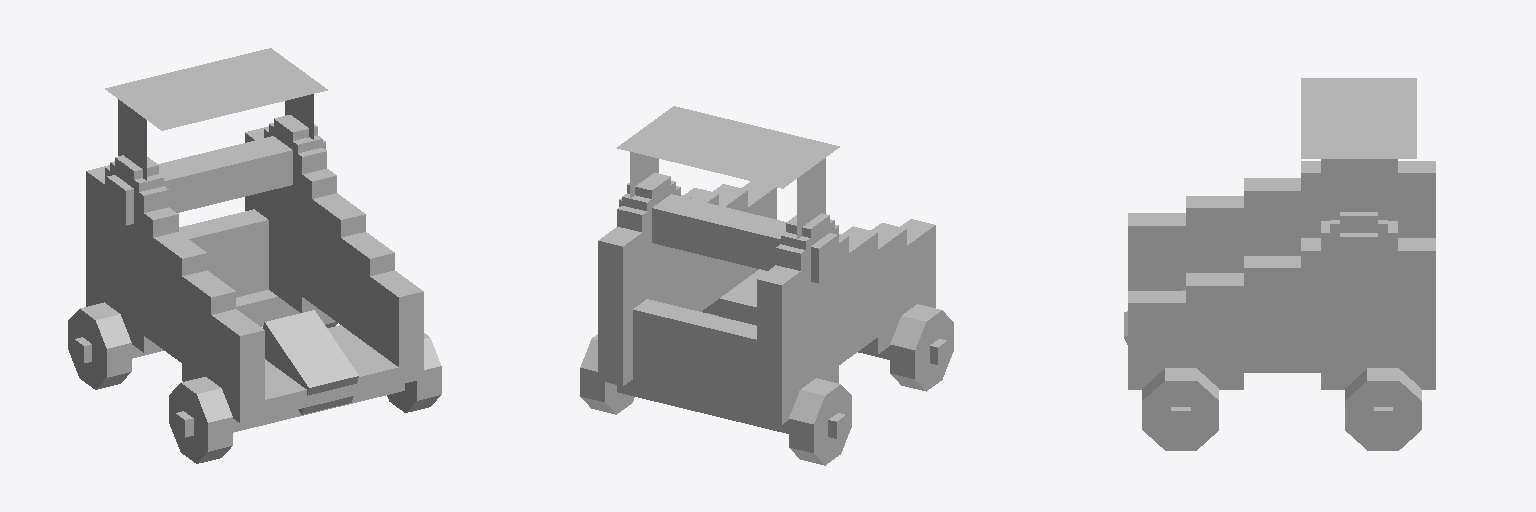
The model's file is complete_saddled.obj.
3 renders of one model, left to right at view 1: azimuth 30°, elevation 25°; view 2: azimuth 150°, elevation 25°; view 3: azimuth 270°, elevation 25°, orthographic.
Parts seen in each view (by area): view 1: cube024, cube022, cube030, cube023, cube015, cube005, cube027, cylinder003, cylinder004, cube026, cube021, cube018 (+17 smaller); view 2: cube024, cube005, cube030, cube022, cube027, cylinder003, cylinder004, cube026, cube021, cube013, cube020, cube023 (+15 smaller); view 3: cube022, cube024, cube030, cylinder001, cylinder002, cube018, cube021, cube017, cube029, cube020, cube016, cube019 (+5 smaller).
Boxes of the visible parts, x1=… form: cube024: x1=86, y1=224, x2=264, y2=405; cube022: x1=245, y1=194, x2=423, y2=366; cube030: x1=105, y1=48, x2=327, y2=130; cube023: x1=182, y1=325, x2=423, y2=423; cube015: x1=263, y1=310, x2=358, y2=414; cube005: x1=179, y1=209, x2=268, y2=297; cube027: x1=107, y1=152, x2=225, y2=225; cylinder003: x1=169, y1=377, x2=232, y2=463; cylinder004: x1=68, y1=302, x2=131, y2=389; cube026: x1=207, y1=136, x2=325, y2=200; cube021: x1=86, y1=206, x2=235, y2=314; cube018: x1=258, y1=189, x2=394, y2=275; cube024: x1=757, y1=219, x2=935, y2=407; cube005: x1=633, y1=299, x2=756, y2=409; cube030: x1=617, y1=106, x2=839, y2=188; cube022: x1=598, y1=181, x2=776, y2=368; cube027: x1=719, y1=210, x2=837, y2=283; cylinder003: x1=890, y1=304, x2=953, y2=391; cylinder004: x1=789, y1=378, x2=851, y2=465; cube026: x1=619, y1=194, x2=737, y2=258; cube021: x1=757, y1=223, x2=906, y2=337; cube013: x1=617, y1=380, x2=788, y2=433; cube020: x1=757, y1=226, x2=877, y2=319; cube023: x1=702, y1=269, x2=935, y2=353; cube022: x1=1128, y1=291, x2=1435, y2=372; cube024: x1=1128, y1=213, x2=1435, y2=290; cube030: x1=1301, y1=78, x2=1416, y2=158; cylinder001: x1=1345, y1=368, x2=1421, y2=450; cylinder002: x1=1142, y1=368, x2=1218, y2=450; cube018: x1=1186, y1=273, x2=1435, y2=302; cube021: x1=1186, y1=196, x2=1435, y2=225; cube017: x1=1244, y1=256, x2=1435, y2=285; cube029: x1=1330, y1=159, x2=1387, y2=219; cube020: x1=1244, y1=178, x2=1435, y2=207; cube016: x1=1301, y1=238, x2=1435, y2=267; cube019: x1=1301, y1=161, x2=1435, y2=190.
Bounding box in the file's own units: 1.88 × 1.97 × 2.03.